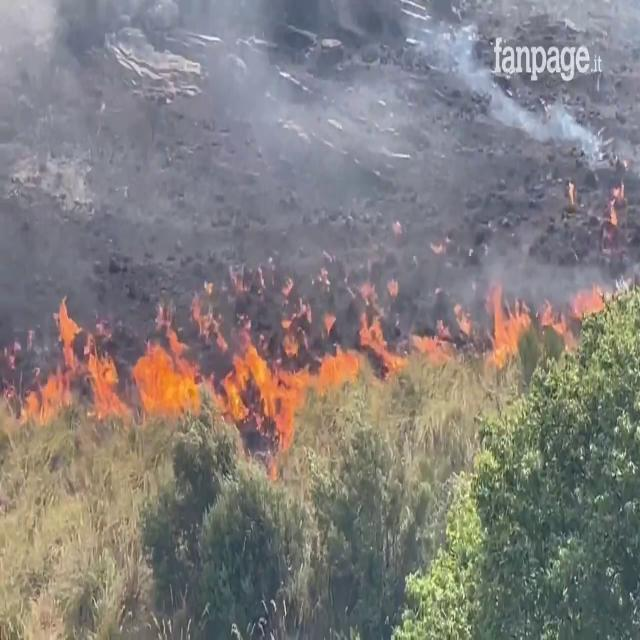Fire: (23, 292, 348, 440), (486, 276, 532, 371)
Smoke: (1, 0, 632, 337)
